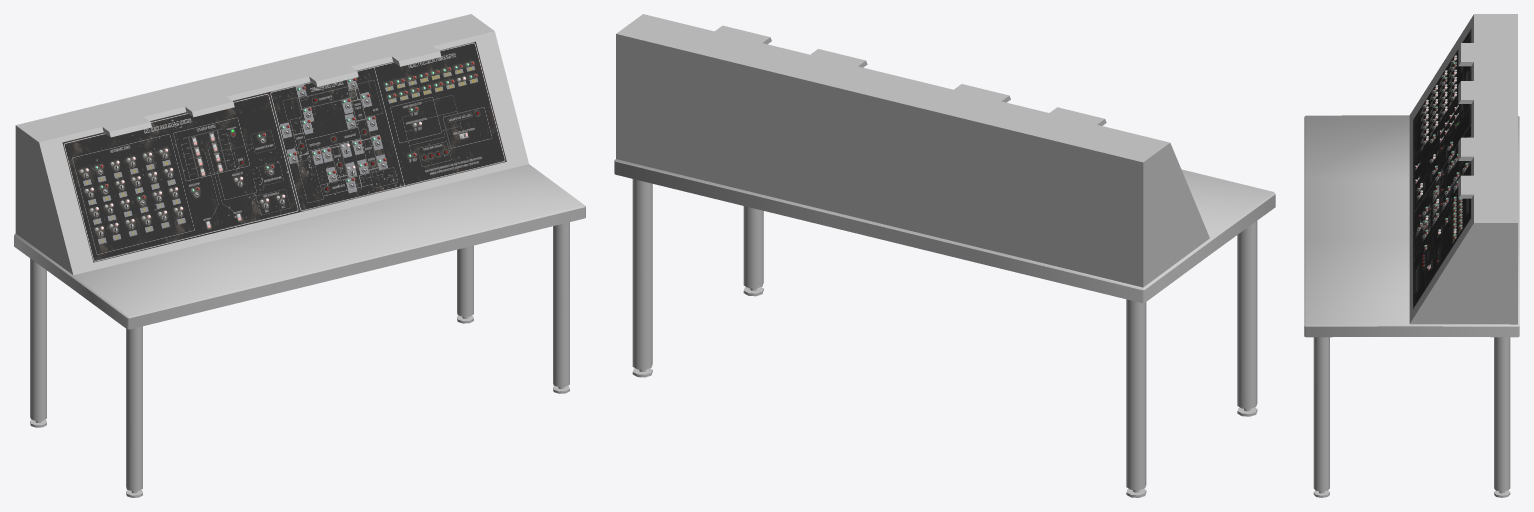
File: SM_Table_ControlPanel_01.fbx
3 views of the same model, side by side, from view 1: azimuth 30°, elevation 25°; view 2: azimuth 150°, elevation 25°; view 3: azimuth 270°, elevation 25° (orthographic). The views are drawn at different scales.
Visible parts, largest first — view 1: SM_Table_ControlPanel_01_LOD0; view 2: SM_Table_ControlPanel_01_LOD0; view 3: SM_Table_ControlPanel_01_LOD0.
Part boxes in pixels (<box>): SM_Table_ControlPanel_01_LOD0: <box>14,14,585,497</box>; SM_Table_ControlPanel_01_LOD0: <box>614,14,1275,497</box>; SM_Table_ControlPanel_01_LOD0: <box>1304,14,1519,497</box>.
Bounding box in the file's own units: 192 × 83.2 × 118.
